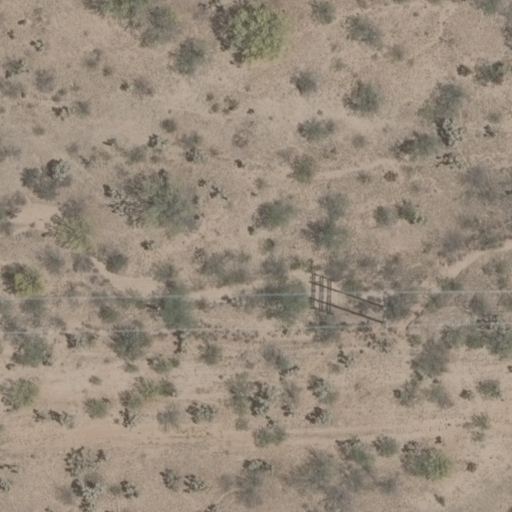DT: (372, 282, 406, 342)
